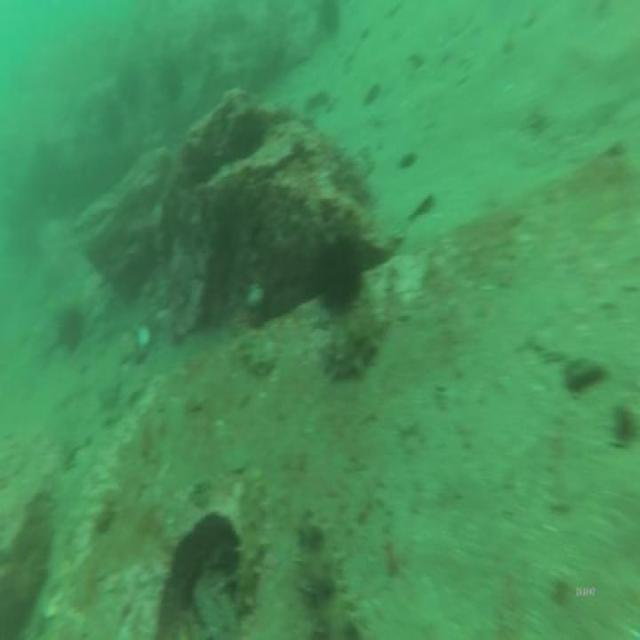echinus: (311, 224, 371, 324), (228, 101, 266, 164)
holothurian: (293, 505, 365, 640), (233, 463, 275, 618), (323, 298, 393, 388)
